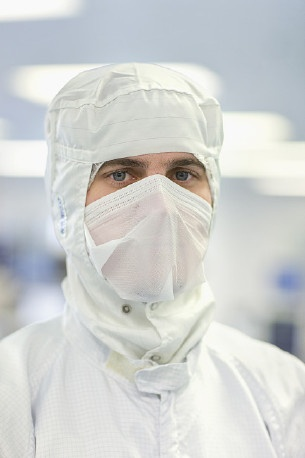Mask: (59, 136, 226, 303)
